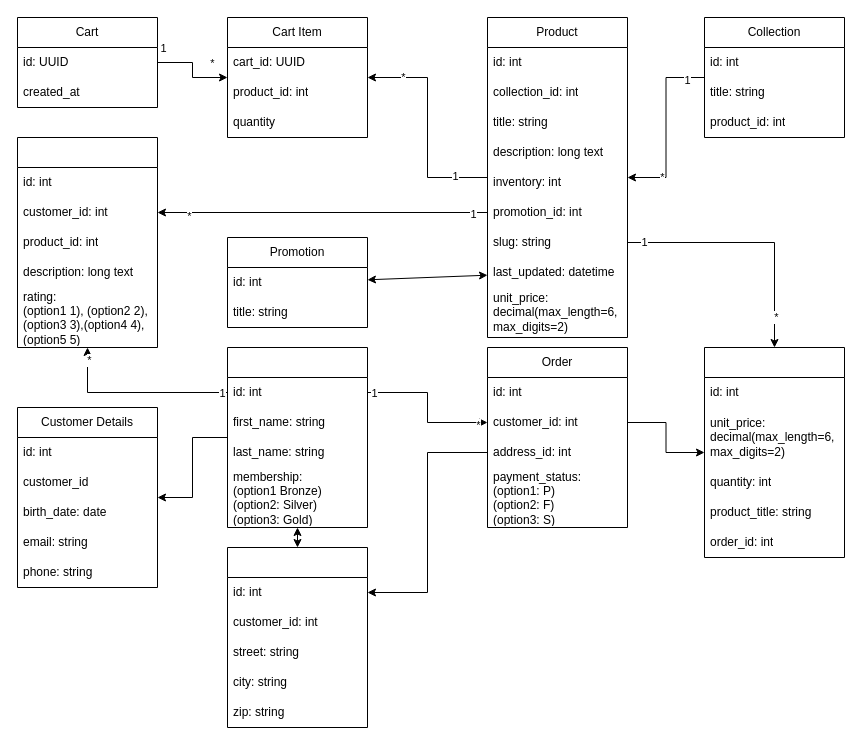
Some shapes in this 862 by 745 pixel diagram are drawn without their labels. Each missing label, with the box of its shape:
Address: (226, 546, 368, 728)
Customer: (226, 346, 368, 528)
Order Item: (704, 346, 844, 558)
Review: (16, 136, 158, 348)
